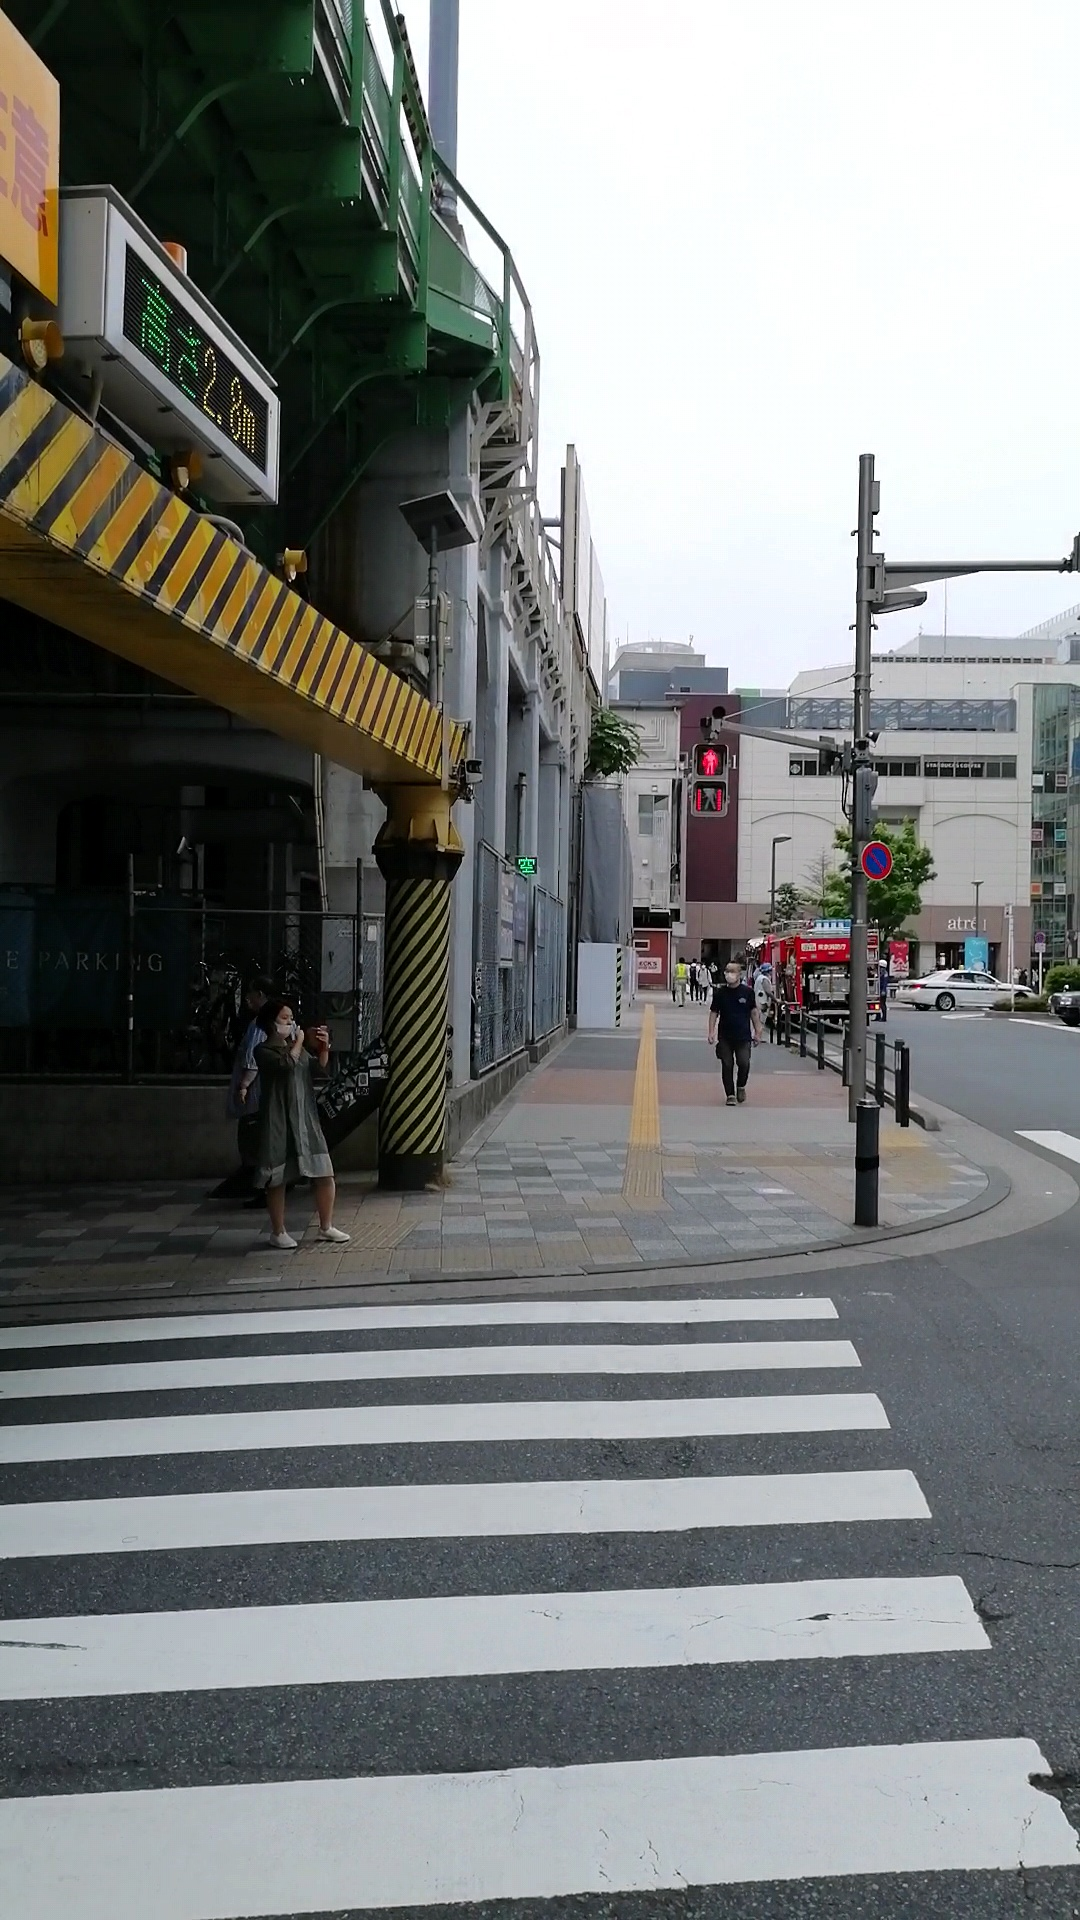red: (690, 742, 728, 818)
